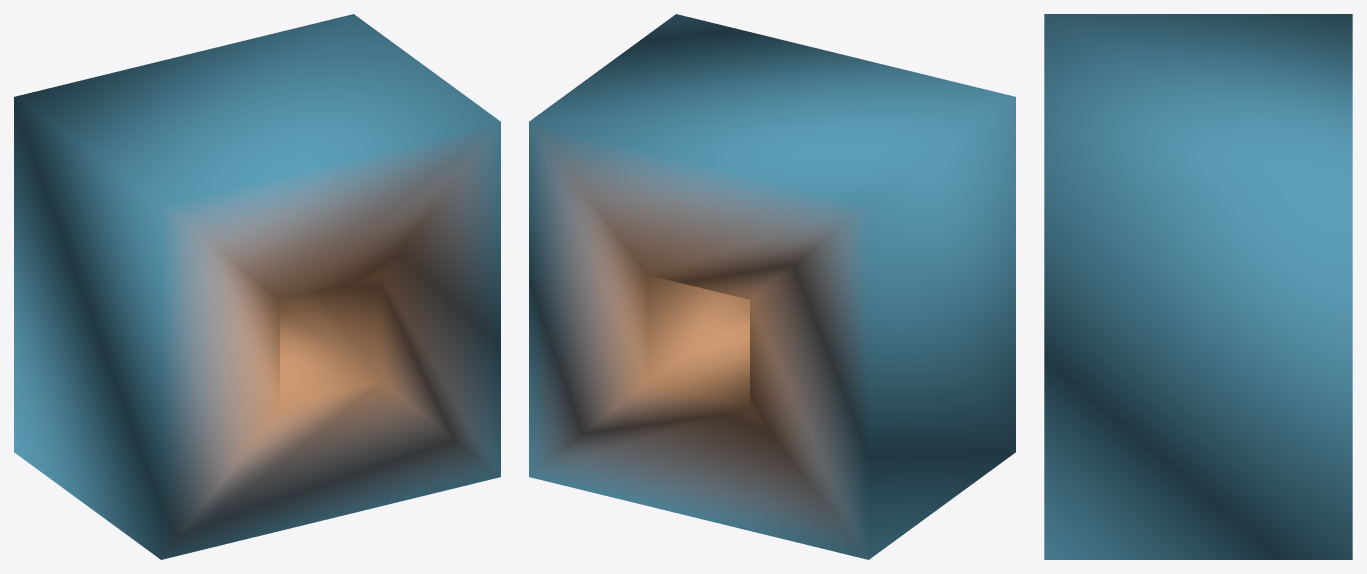
The model's file is x06_artifact.glb.
3 renders of one model, left to right at view 1: azimuth 30°, elevation 25°; view 2: azimuth 150°, elevation 25°; view 3: azimuth 270°, elevation 25°, orthographic. The views are drawn at different scales.
Parts seen in each view (by area): view 1: ToolboxSolid; view 2: ToolboxSolid; view 3: ToolboxSolid.
Boxes of the visible parts, left/top/right/bottom form: ToolboxSolid: left=14, top=14, right=500, bottom=559; ToolboxSolid: left=529, top=14, right=1015, bottom=559; ToolboxSolid: left=1044, top=14, right=1352, bottom=559.
Bounding box in the file's own units: 80 × 80 × 60.
